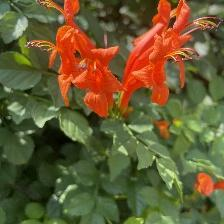honeysuckle: (43, 23, 125, 122)
